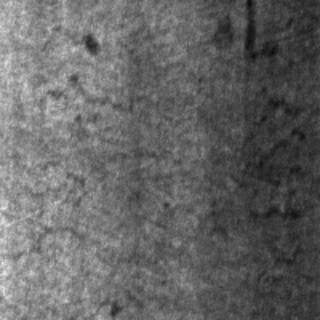crazing: (2, 67, 166, 251), (206, 82, 302, 266)
